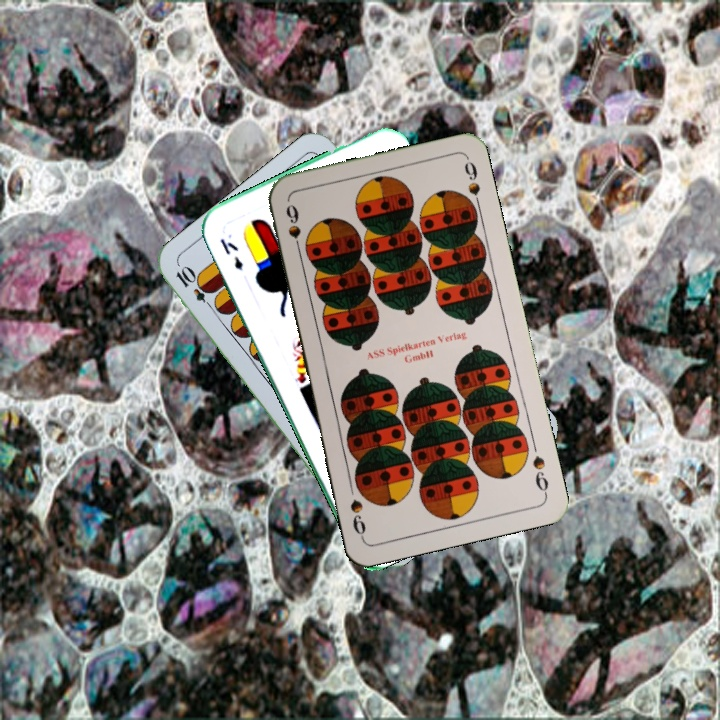E10: (171, 262, 219, 314)
EK: (216, 234, 246, 273)
S9: (281, 200, 304, 258), (528, 451, 551, 498)
